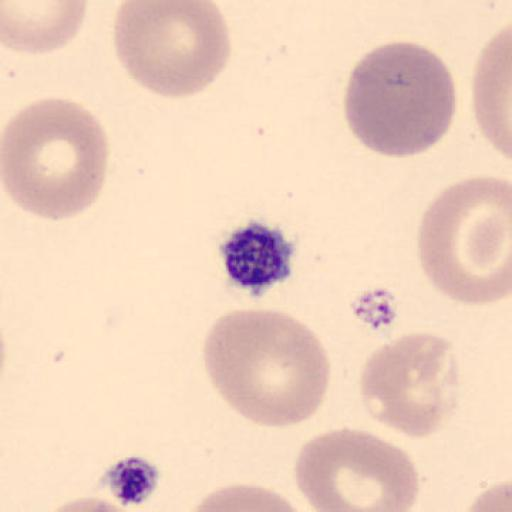Platelet: (218, 218, 298, 298), (97, 452, 163, 509), (348, 284, 402, 332)
RBC: (200, 306, 332, 429), (1, 94, 110, 223), (341, 38, 458, 158), (415, 174, 512, 308), (112, 1, 232, 101), (358, 330, 461, 439), (293, 426, 421, 512), (472, 20, 512, 163), (1, 0, 89, 56), (182, 481, 316, 512), (33, 493, 138, 512), (464, 479, 511, 512)
